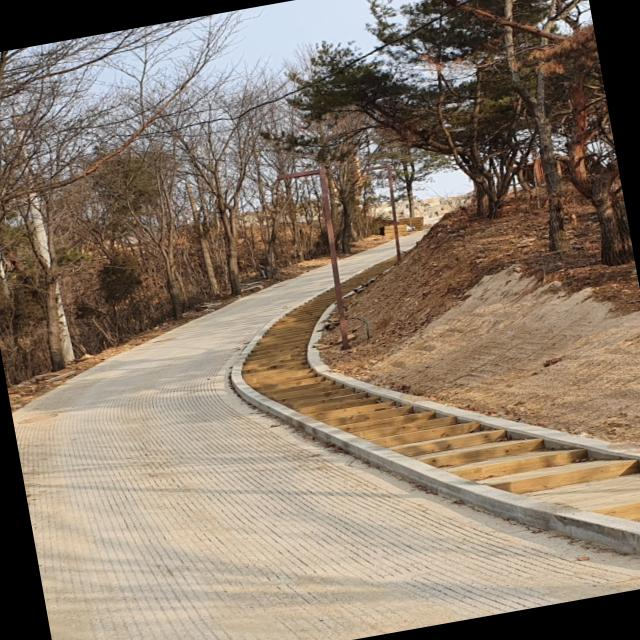cement: (12, 265, 640, 640), (339, 240, 395, 279), (401, 230, 426, 249)
red-sand: (334, 200, 640, 380)
white-sand: (324, 266, 640, 446)
